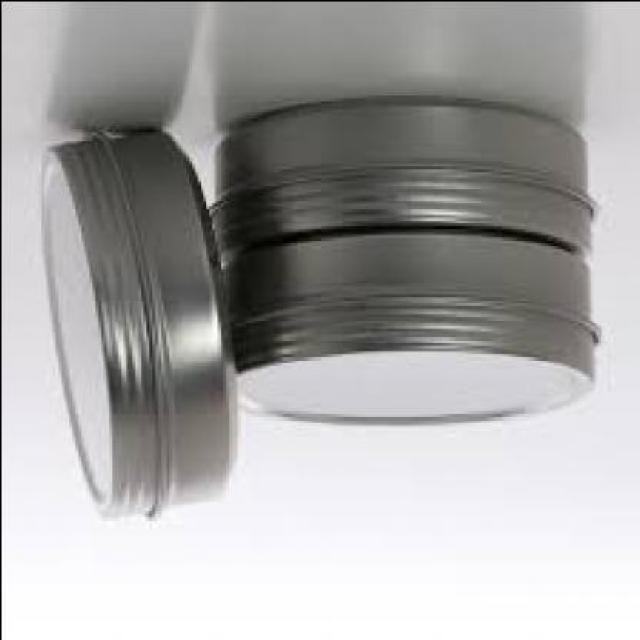METAL: (34, 125, 237, 524), (226, 227, 592, 427), (208, 111, 586, 258)
